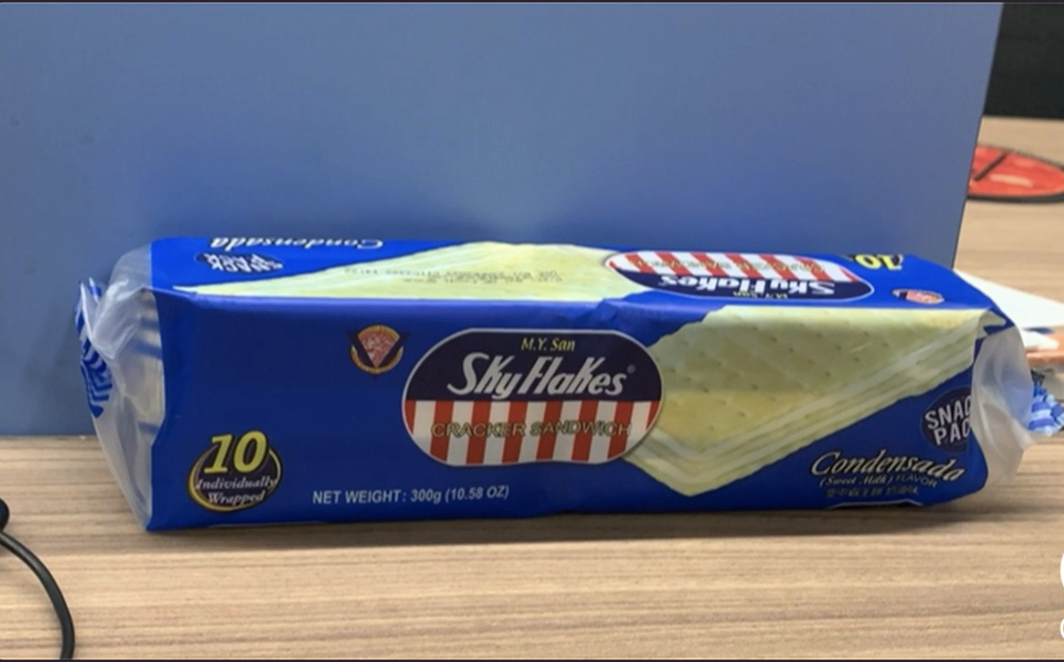crackers_300g-399g: (175, 252, 981, 506)
